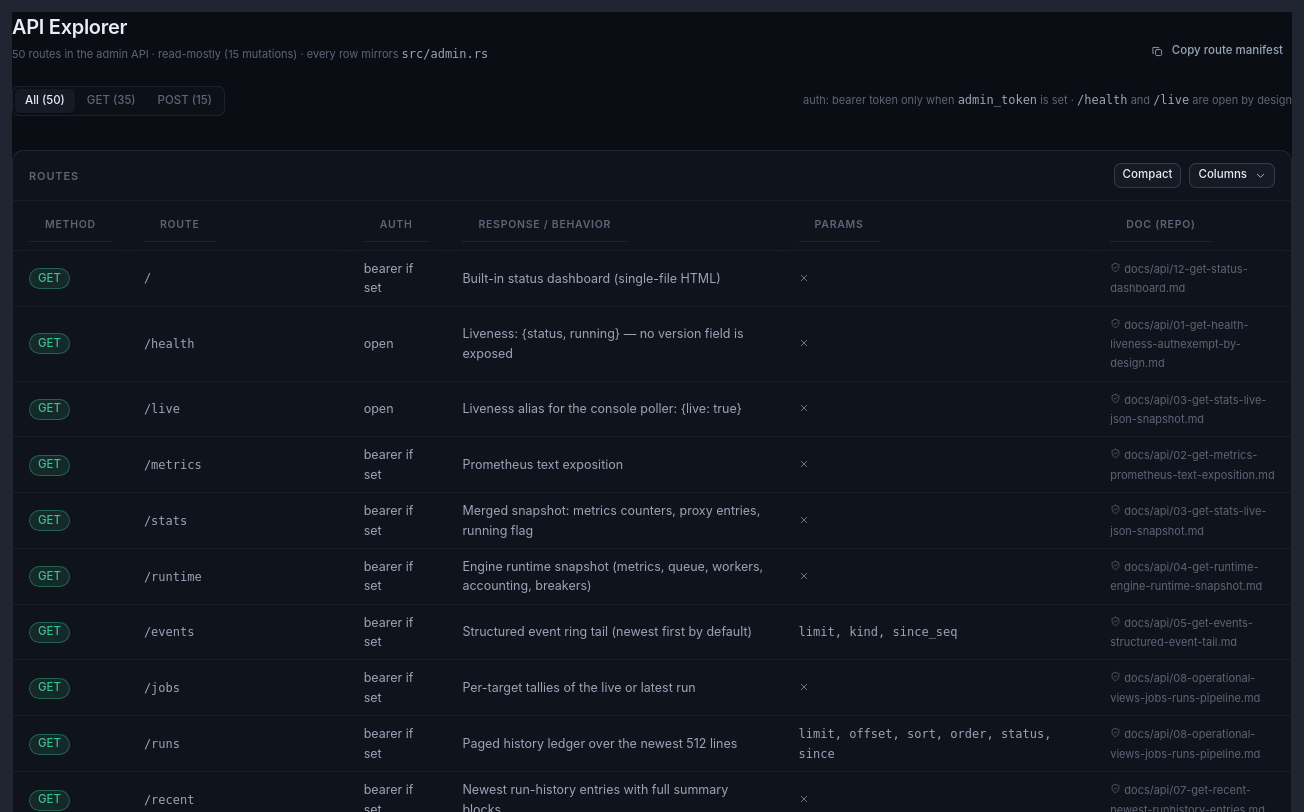
Test: ApiExplorer › POST filter shows exactly the six documented mutations
The width and height of the screenshot is (1304, 812).
Expected: the heading "API Explorer" is shown, x1=12 y1=15 x2=127 y2=39
Click the button "POST (15)".
click(185, 101)  # box x1=148 y1=89 x2=222 y2=113
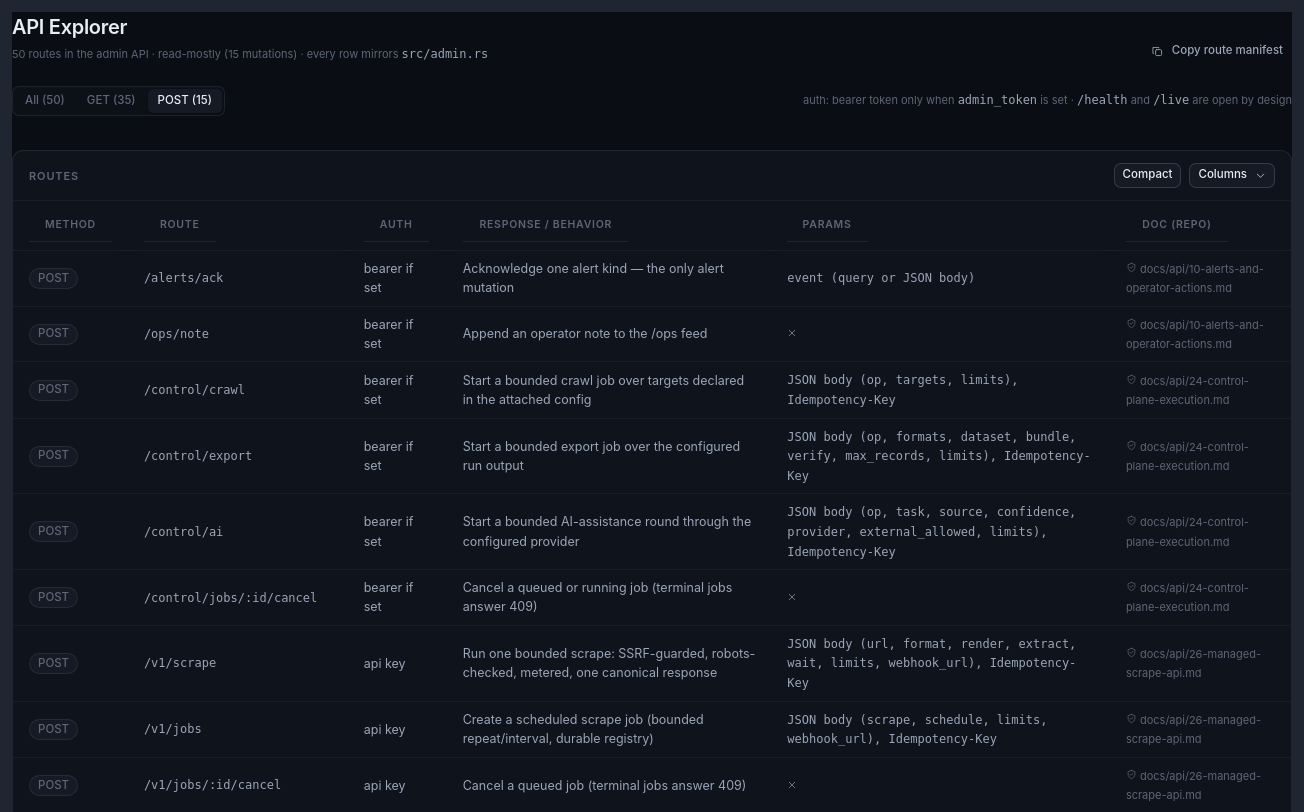
Expected: the text "/alerts/ack" is shown, x1=144 y1=271 x2=223 y2=285
Result: the number of rows is 16
